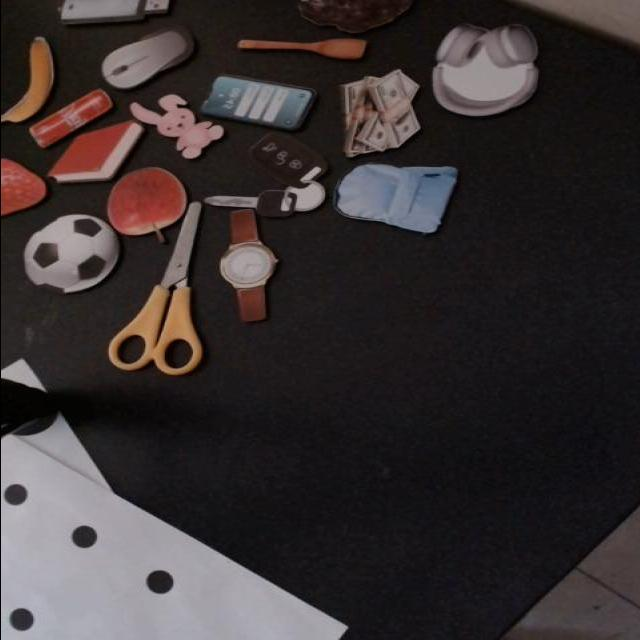Other Objects: (204, 128, 352, 243), (107, 202, 204, 376), (430, 21, 539, 117), (87, 18, 208, 98), (333, 164, 458, 234), (24, 214, 119, 292), (340, 69, 421, 158), (200, 75, 317, 131), (0, 36, 69, 130), (105, 167, 187, 245), (219, 212, 277, 322), (129, 94, 225, 160), (24, 90, 119, 150), (296, 1, 418, 32), (237, 39, 367, 60), (237, 38, 365, 59), (60, 1, 171, 25)
